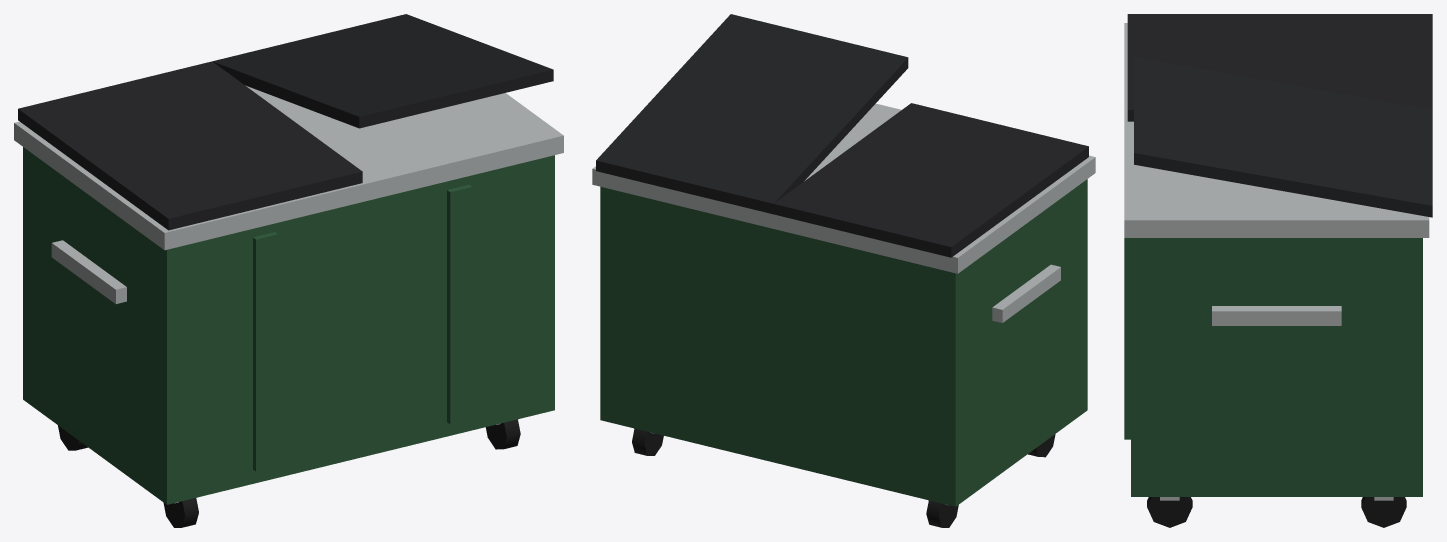
Rendered from dumpster.glb.
3 views of the same model, side by side, from view 1: azimuth 30°, elevation 25°; view 2: azimuth 150°, elevation 25°; view 3: azimuth 270°, elevation 25° (orthographic). The views are drawn at different scales.
Visible parts, largest first — view 1: dumpster; view 2: dumpster; view 3: dumpster.
Part boxes in pixels (x1,y1,x2,y2): dumpster: (14, 14, 563, 527); dumpster: (592, 14, 1095, 527); dumpster: (1124, 14, 1432, 527).
Bounding box in the file's own units: 1.48 × 1.32 × 0.95.
Materials: 1 (1 with a texture image).
